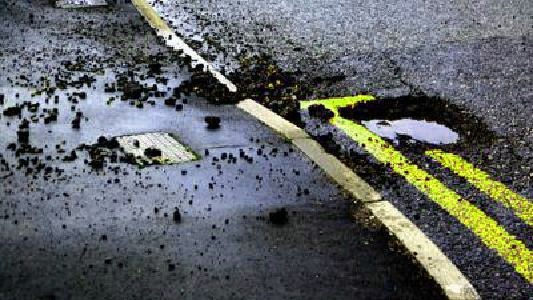pothole: (337, 92, 495, 152)
